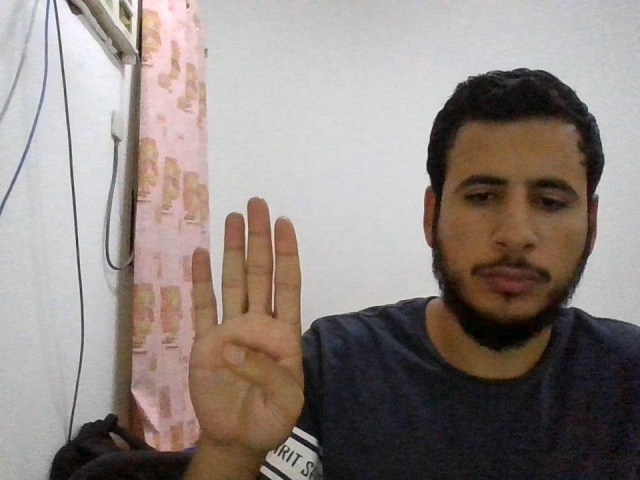Four: (190, 197, 305, 452)
